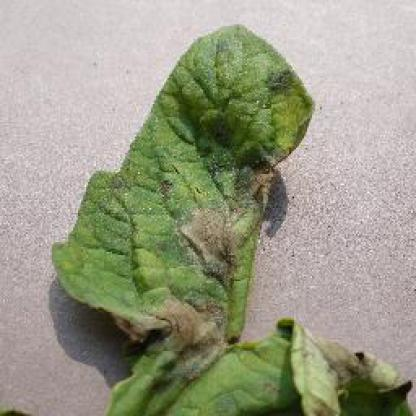bad leaf: (124, 144, 278, 362)
